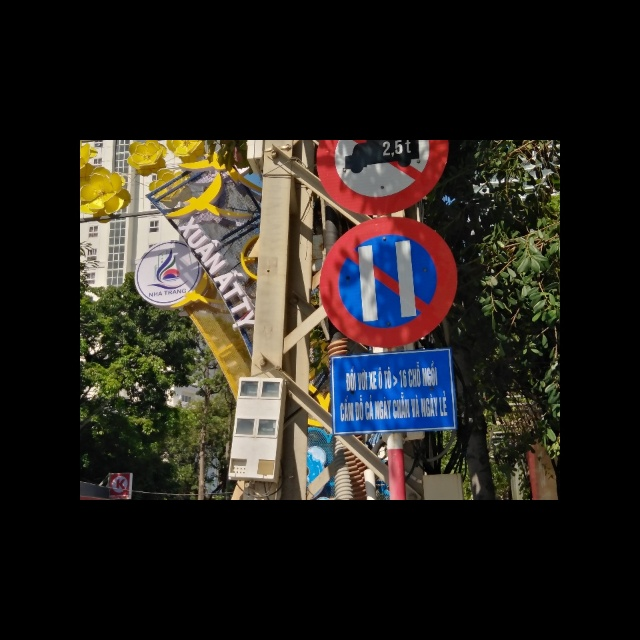Cấm xe tải: (316, 140, 449, 212)
Cấm đỗ xe ngày chẵn: (317, 215, 464, 345)
